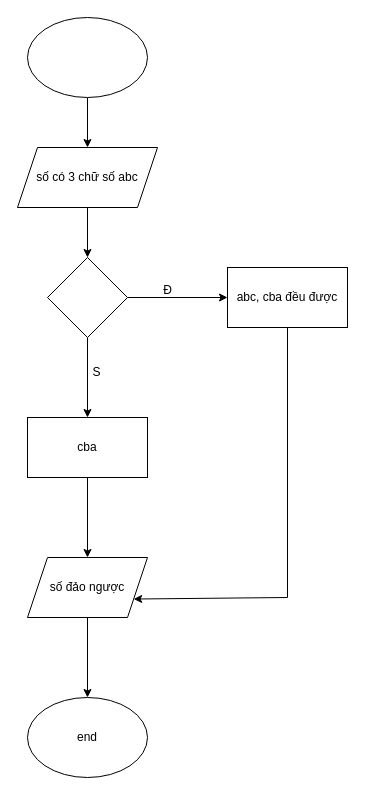
Image size: 365x795. Some labels were removed from this diagram. The shapes that lost their labels are listed below. From the top down, each one's centre as x and y in pixels, then its label:
At pixel 87 57: "Start".
At pixel 87 297: "a = c".
